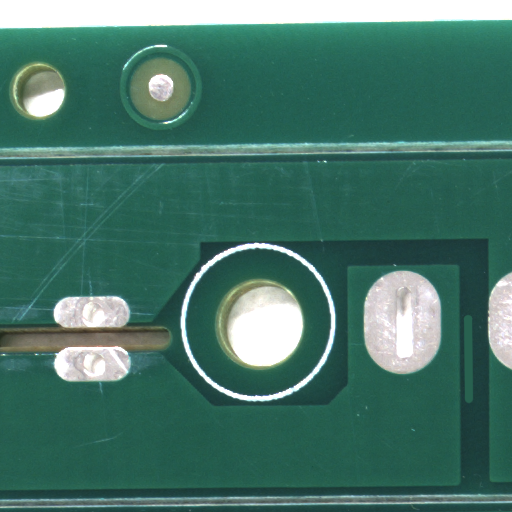Spurious_copper: (468, 359, 483, 449)
